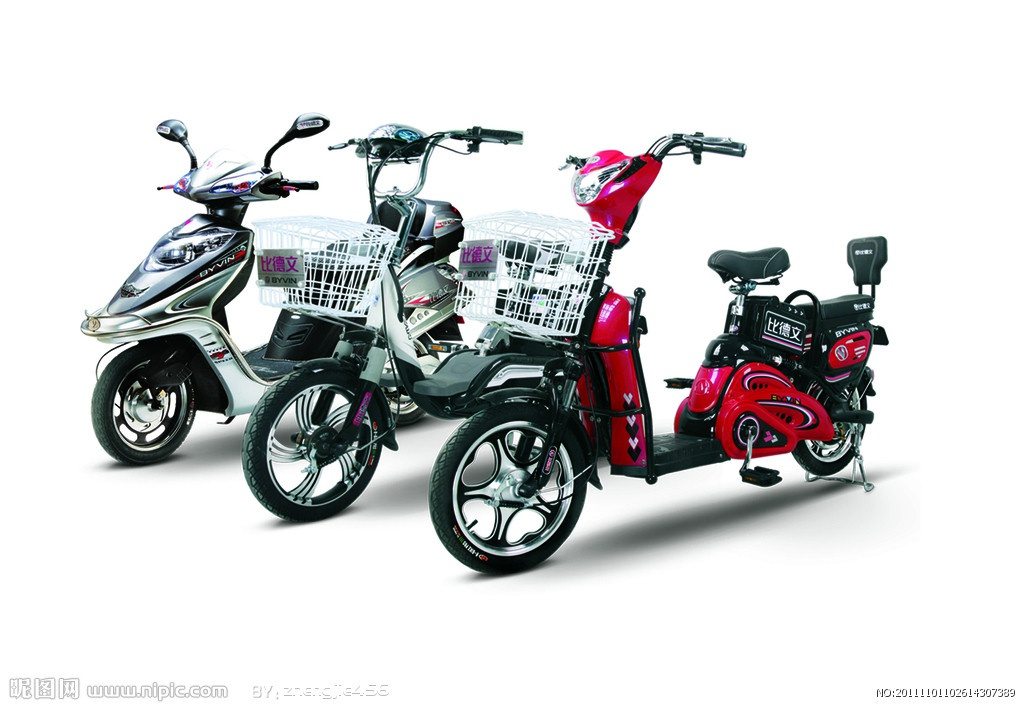non-vehicle: (426, 147, 892, 575), (241, 123, 594, 521), (84, 112, 338, 464)
